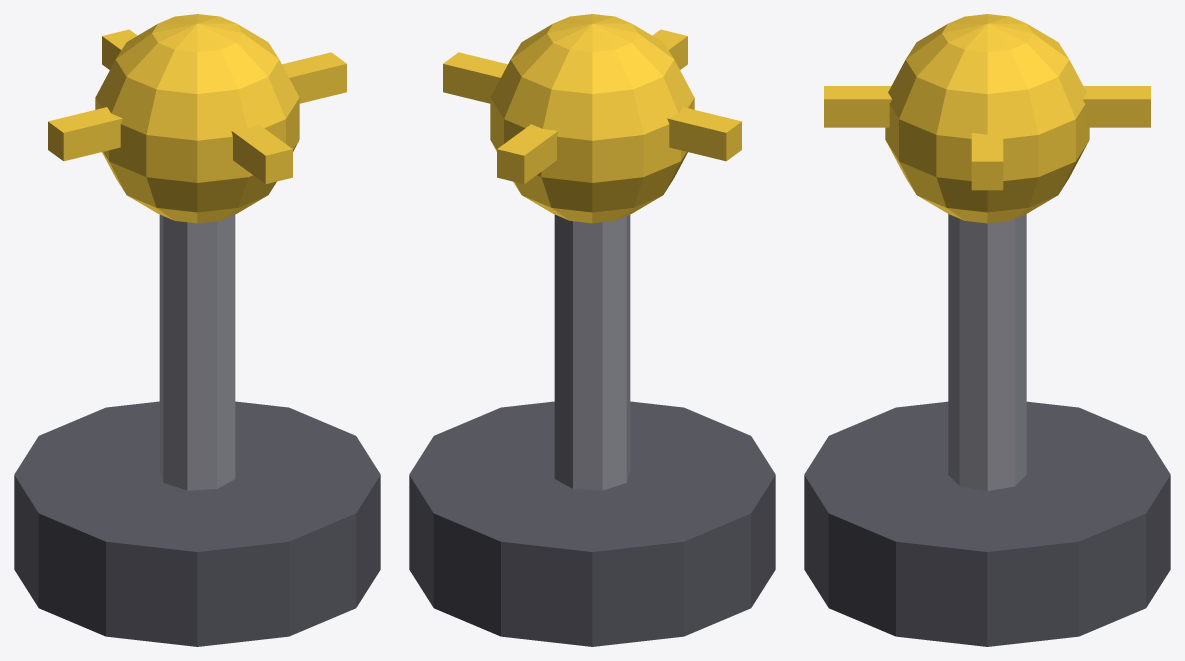
Rendered from Sprinkler_GodlySprinkler.fbx.
The picture shows the model from 3 angles, left to right: view 1: azimuth 30°, elevation 25°; view 2: azimuth 150°, elevation 25°; view 3: azimuth 270°, elevation 25°; orthographic projection.
Parts seen in each view (by area): view 1: Base_GodlySprinkler, Cabeca_GodlySprinkler, Cano_GodlySprinkler; view 2: Base_GodlySprinkler, Cabeca_GodlySprinkler, Cano_GodlySprinkler; view 3: Base_GodlySprinkler, Cabeca_GodlySprinkler, Cano_GodlySprinkler.
Boxes of the visible parts, <box> form: Base_GodlySprinkler: <box>14,401,380,646</box>; Cabeca_GodlySprinkler: <box>48,14,346,223</box>; Cano_GodlySprinkler: <box>159,214,235,490</box>; Base_GodlySprinkler: <box>409,401,775,646</box>; Cabeca_GodlySprinkler: <box>443,14,741,223</box>; Cano_GodlySprinkler: <box>554,214,630,490</box>; Base_GodlySprinkler: <box>804,401,1170,646</box>; Cabeca_GodlySprinkler: <box>824,14,1150,223</box>; Cano_GodlySprinkler: <box>948,214,1026,491</box>.
Size of the model in its own units: 1.4 by 2.3 by 1.4.
Materials: 1 (1 with a texture image).
